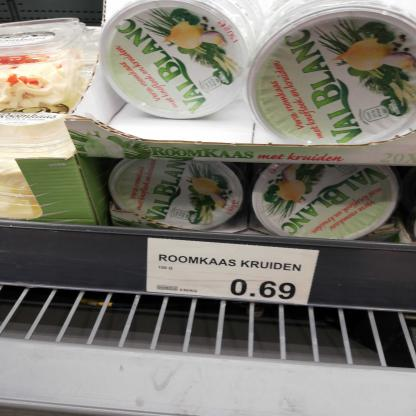prtg: (147, 239, 320, 306)
